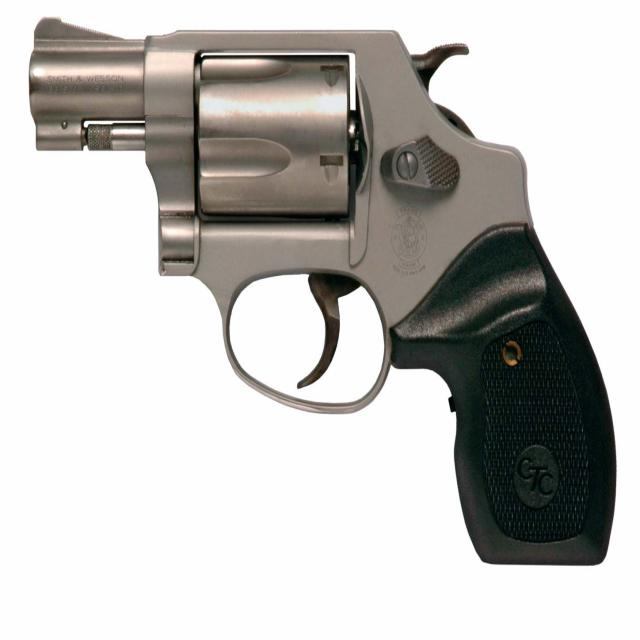Weapon: (30, 18, 616, 564)
